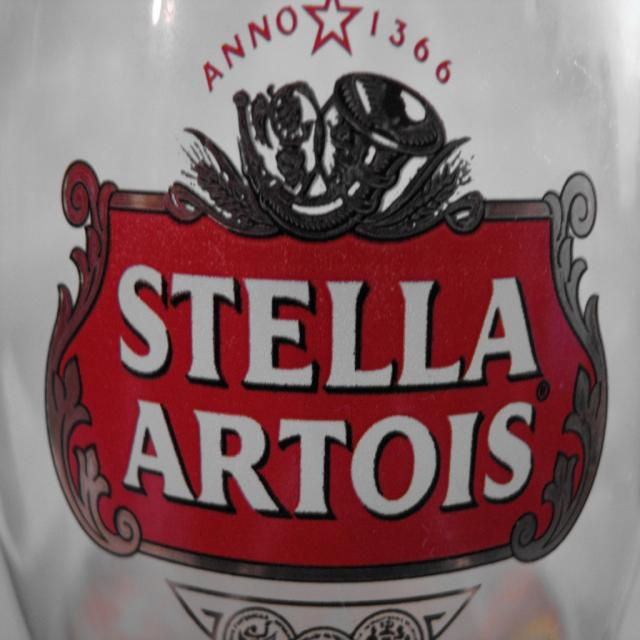stellaartois: (35, 2, 613, 640)
